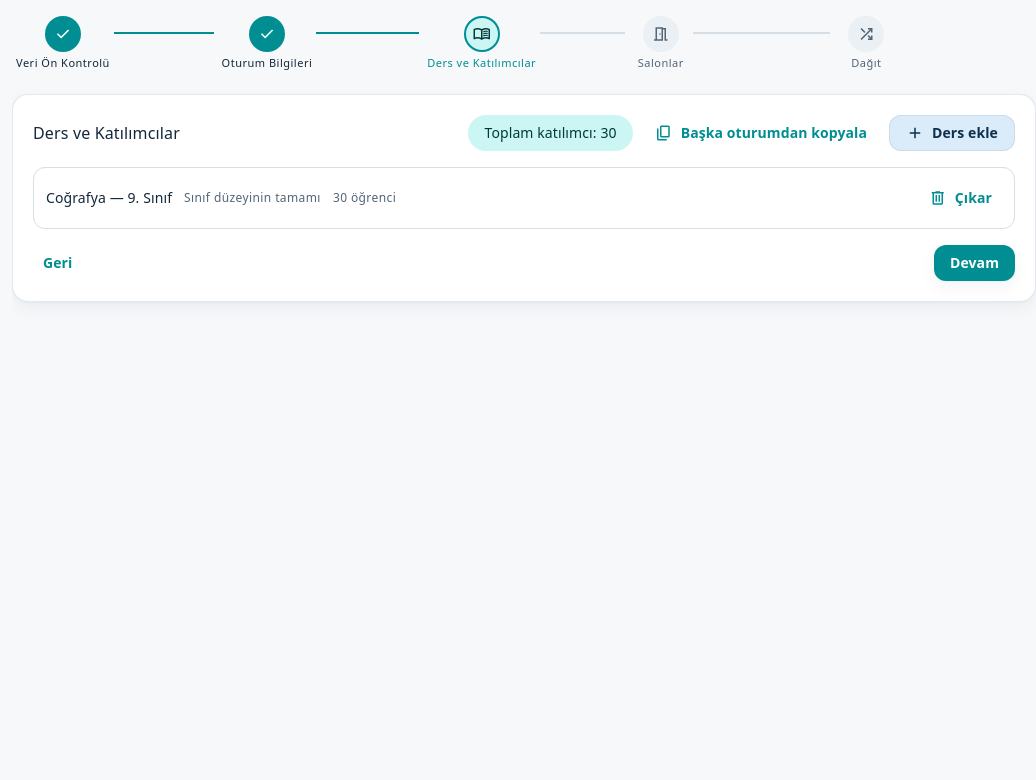
Test: SinavSihirbazi — Stepper ile adıma dönüş › tamamlanmış adıma tıklanınca o adım açılır; güncel ve gelecek adımlar düğme değildir
The image size is (1036, 780).
Check: the heading "Ders ve Katılımcılar" is shown, box x1=33 y1=121 x2=180 y2=145
What coordinates should you click on to do the following:
click the button with aria-label "Oturum Bilgileri adımına dön"
I would click on:
 (267, 43)
Its box is x1=218 y1=12 x2=316 y2=74.
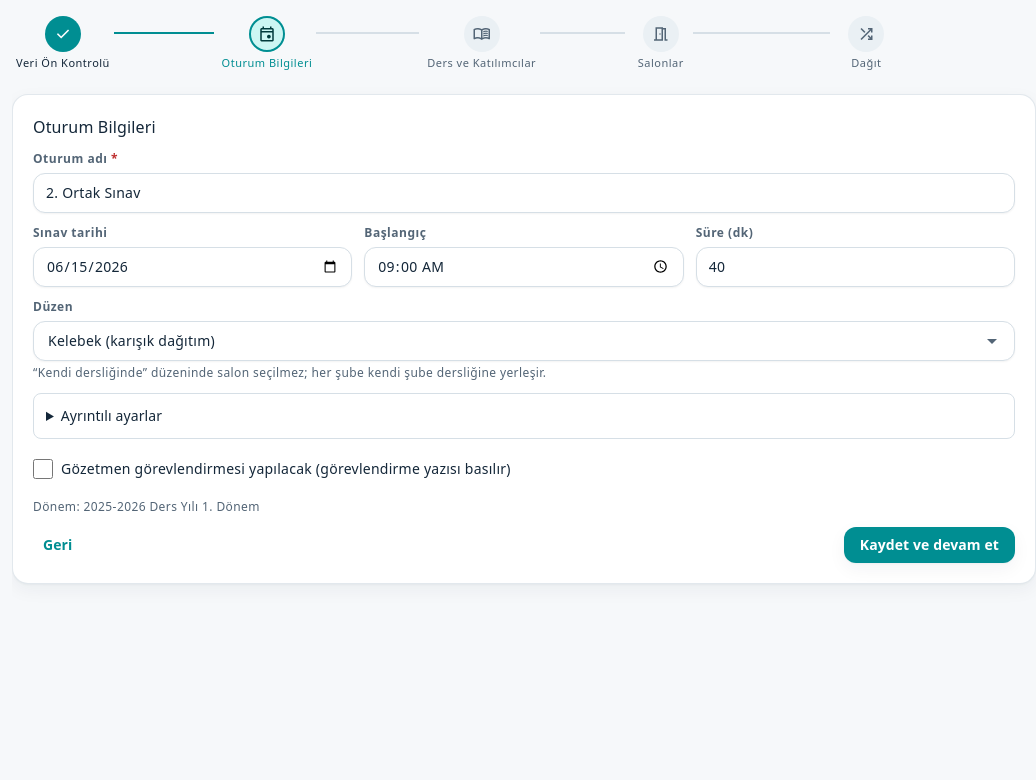
Check: the heading "Oturum Bilgileri" is shown, box x1=33 y1=116 x2=156 y2=138
